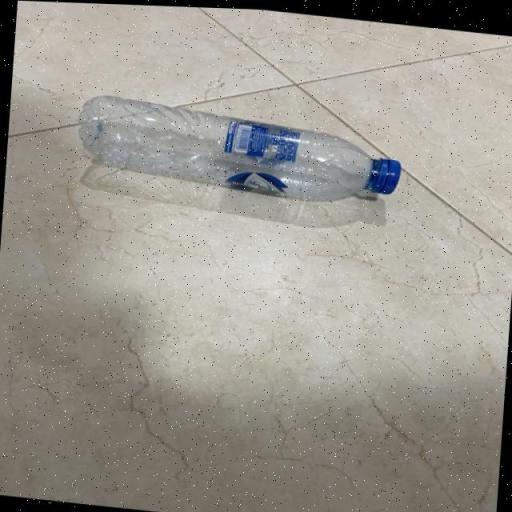plastic: (75, 89, 412, 209)
